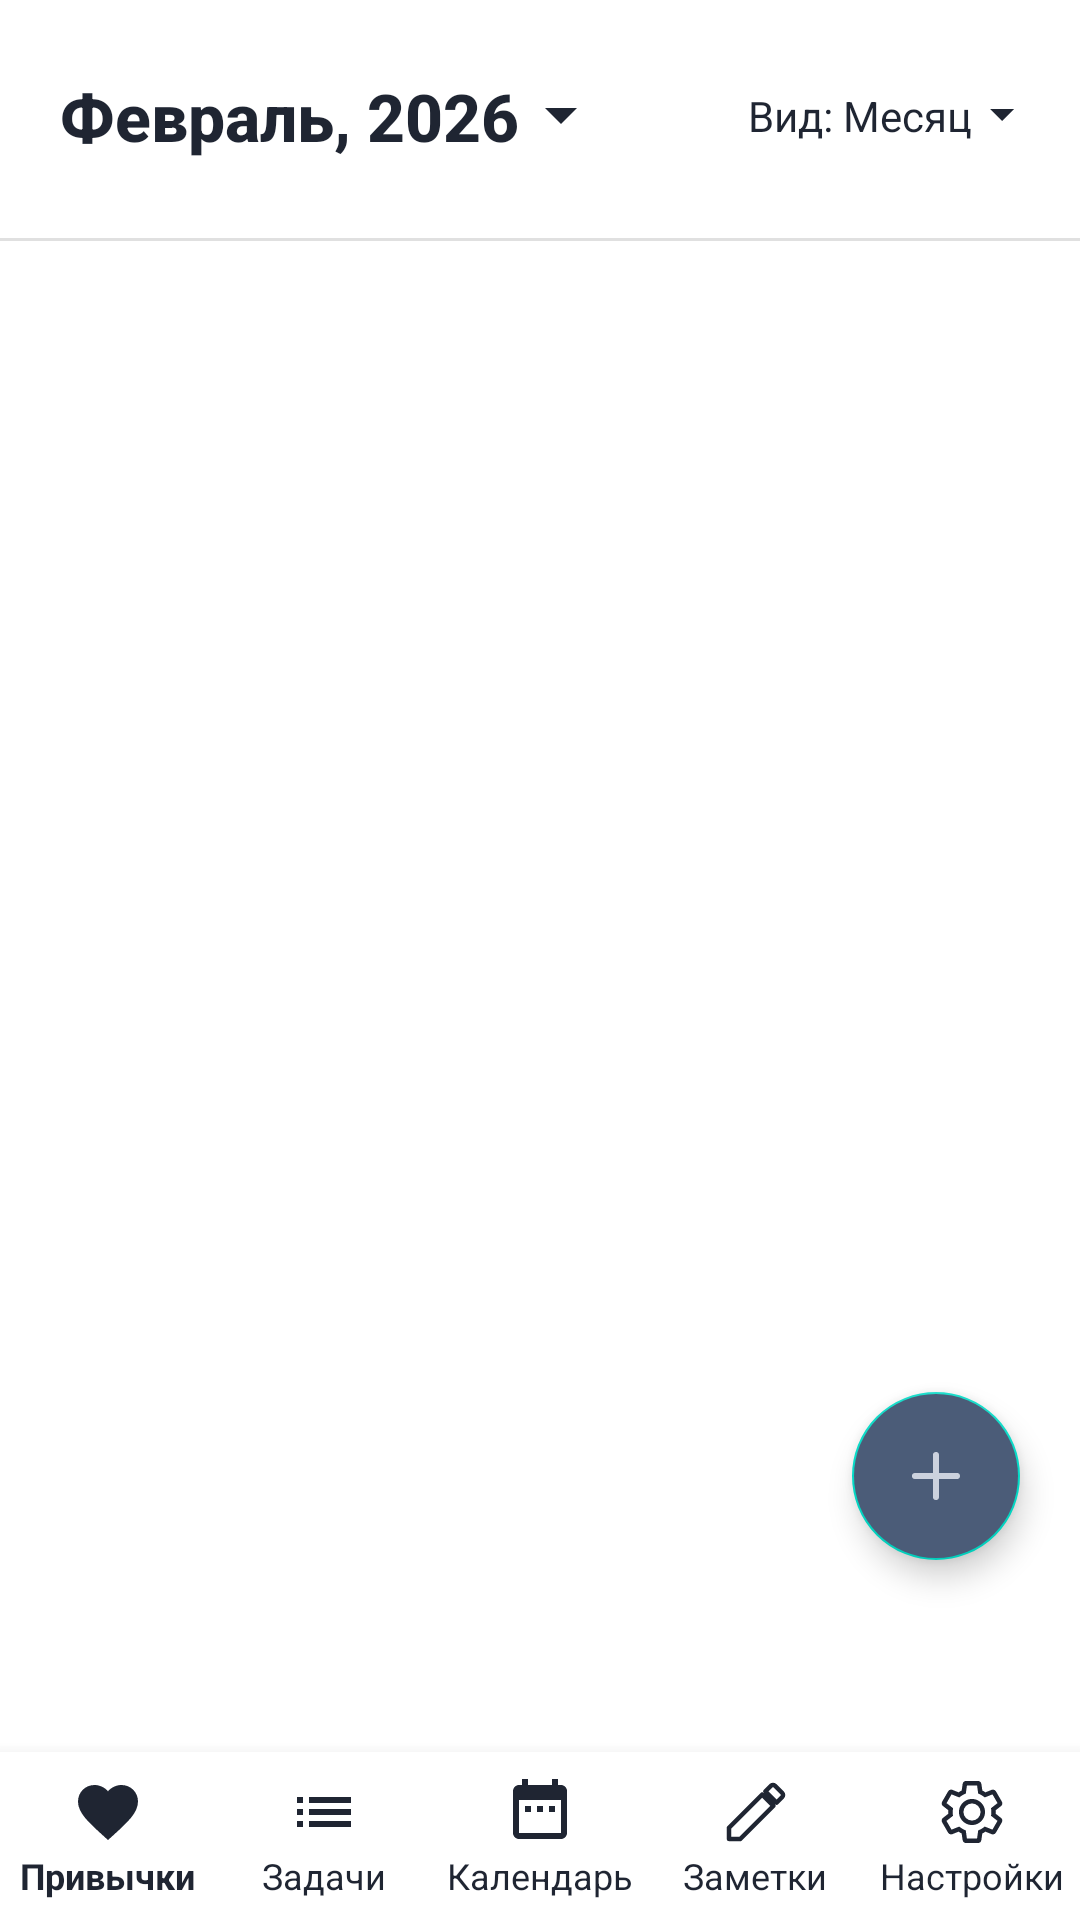

Point at icon controls on the screen. Image size 1080px x 1920px, points as [x,y].
add: [936,1476]
Выбор месяца: [561,116]
